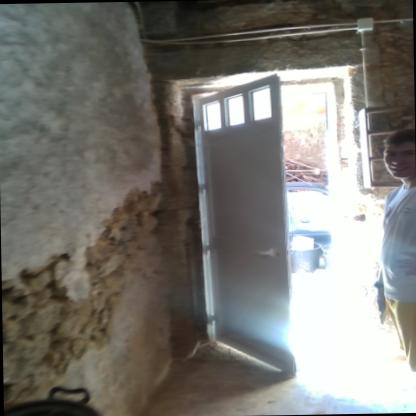semi: (168, 56, 386, 396)
